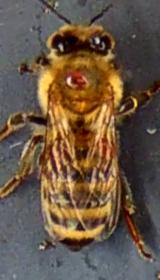varroa_mite: (62, 68, 98, 90)
